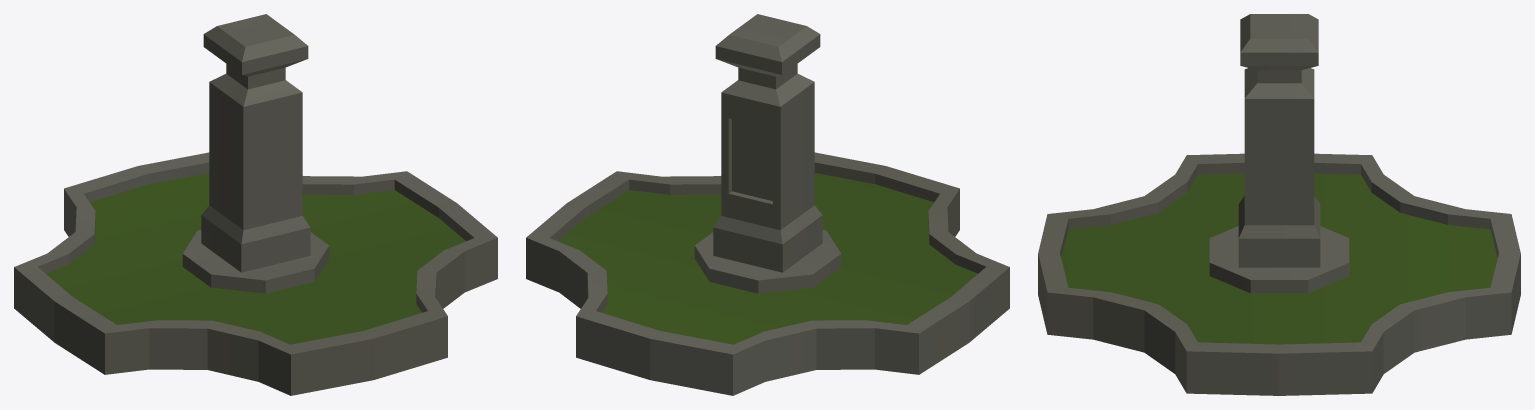
Rendered from Fountain_01.fbx.
3 views of the same model, side by side, from view 1: azimuth 30°, elevation 25°; view 2: azimuth 150°, elevation 25°; view 3: azimuth 270°, elevation 25° (orthographic). The views are drawn at different scales.
Parts seen in each view (by area): view 1: Fountain_01; view 2: Fountain_01; view 3: Fountain_01.
Part boxes in pixels (x1,y1,x2,y2): Fountain_01: [14, 14, 497, 395]; Fountain_01: [526, 14, 1009, 395]; Fountain_01: [1038, 14, 1520, 395].
Bounding box in the file's own units: 4.34 × 2.71 × 4.41.
